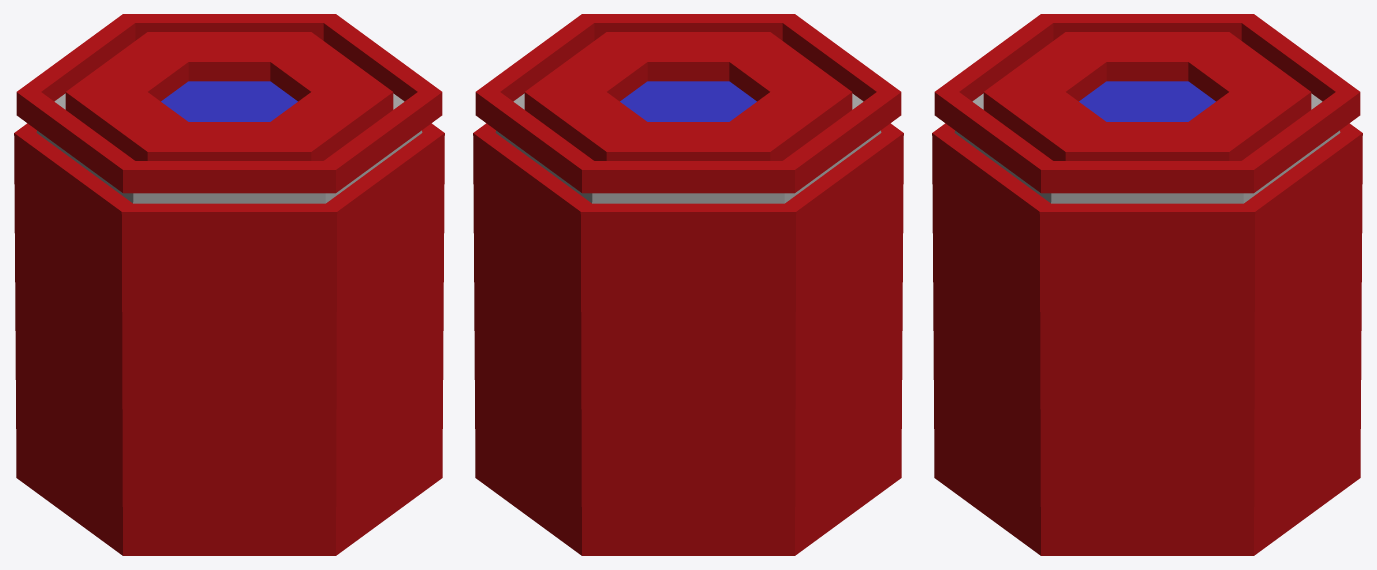
The model's file is machine_tile_hexa1.fbx.
3 renders of one model, left to right at view 1: azimuth 30°, elevation 25°; view 2: azimuth 150°, elevation 25°; view 3: azimuth 270°, elevation 25°, orthographic.
Parts seen in each view (by area): view 1: Mesh; view 2: Mesh; view 3: Mesh.
Part boxes in pixels (left/top/right/bottom): Mesh: left=14, top=14, right=444, bottom=555; Mesh: left=473, top=14, right=903, bottom=555; Mesh: left=932, top=14, right=1362, bottom=555.
Bounding box in the file's own units: 0.8756 × 1 × 1.01.
